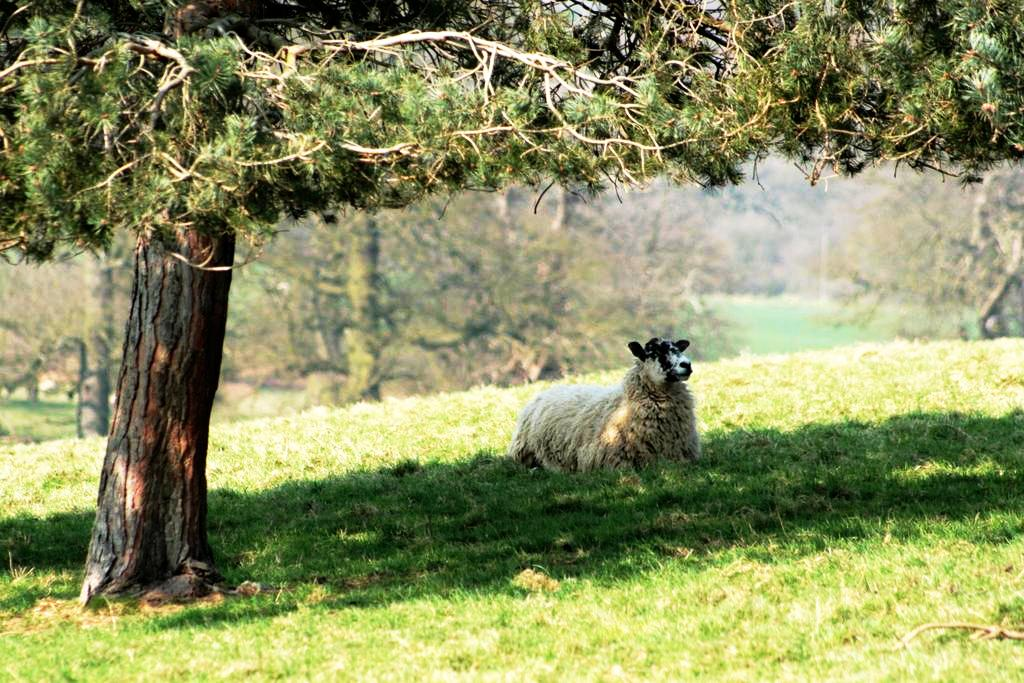Sheep: (506, 340, 702, 478)
